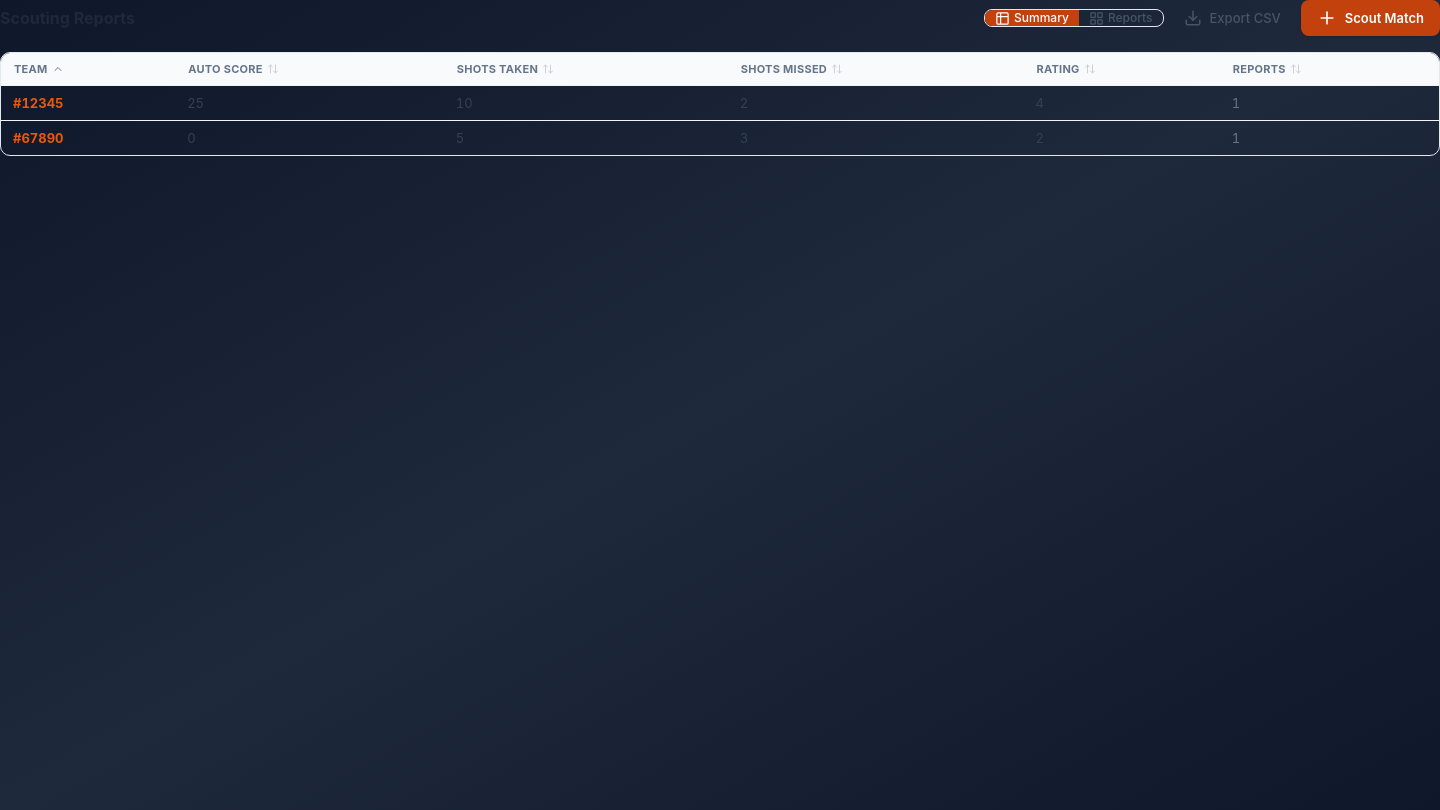
it: ScoutingReport form validation › the event picker › falls back to a plain text field when the team has no events at all
Click the button with test id "scout-view-cards": (1121, 18) [1079,10,1162,26]
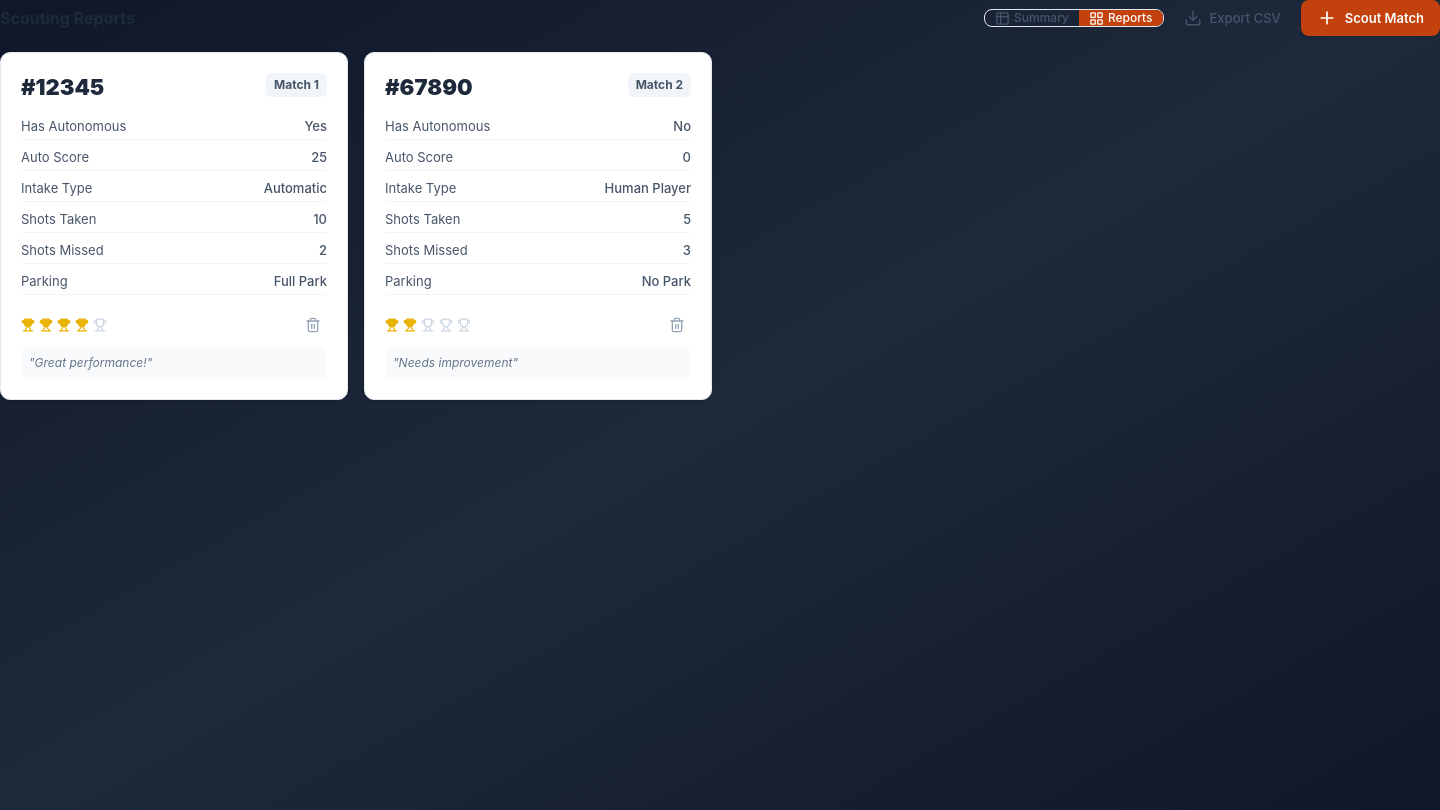
Click the button with test id "scout-match": (1370, 18) [1301,0,1439,36]
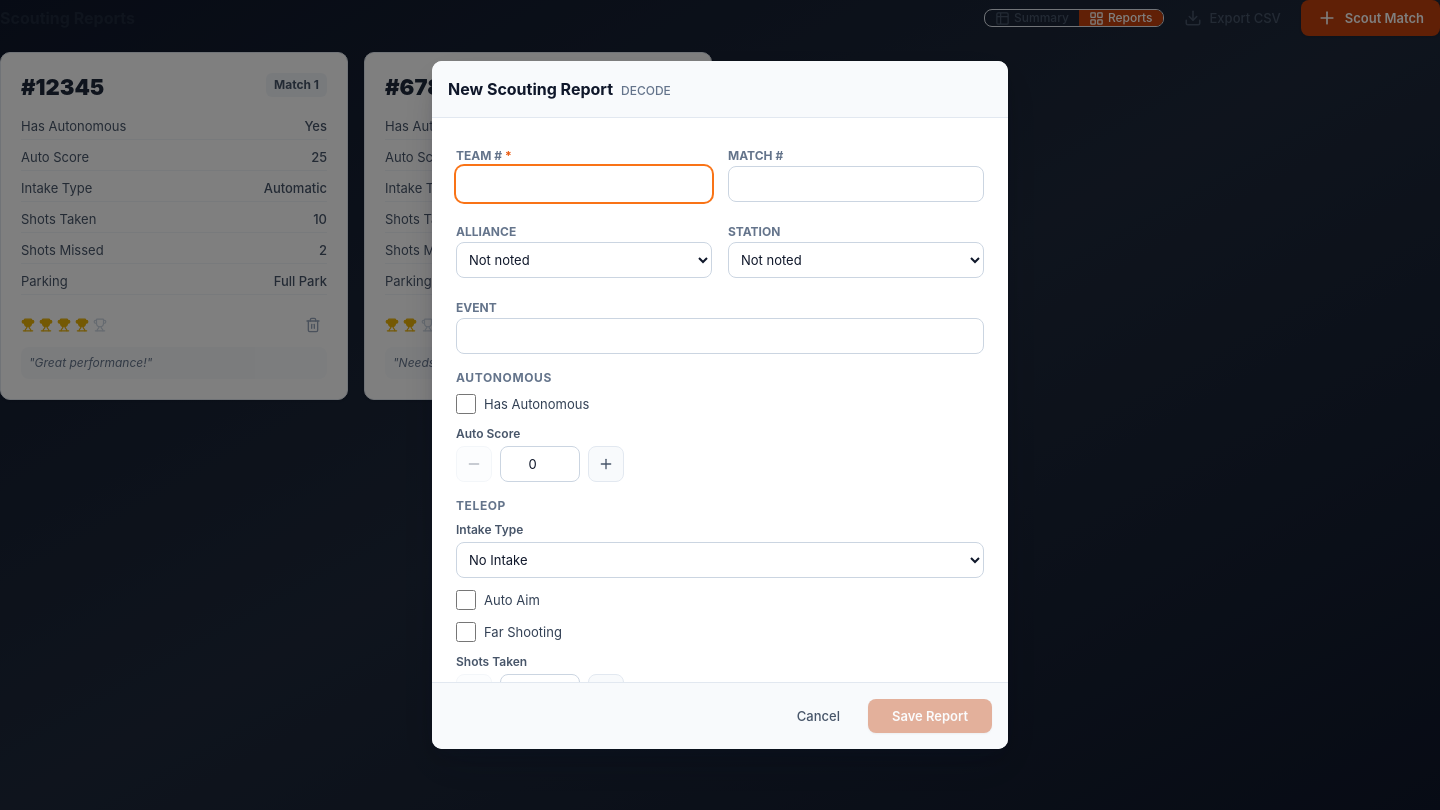
expect the field with test id "scout-event-name" is shown: met, box [456,318,984,354]
